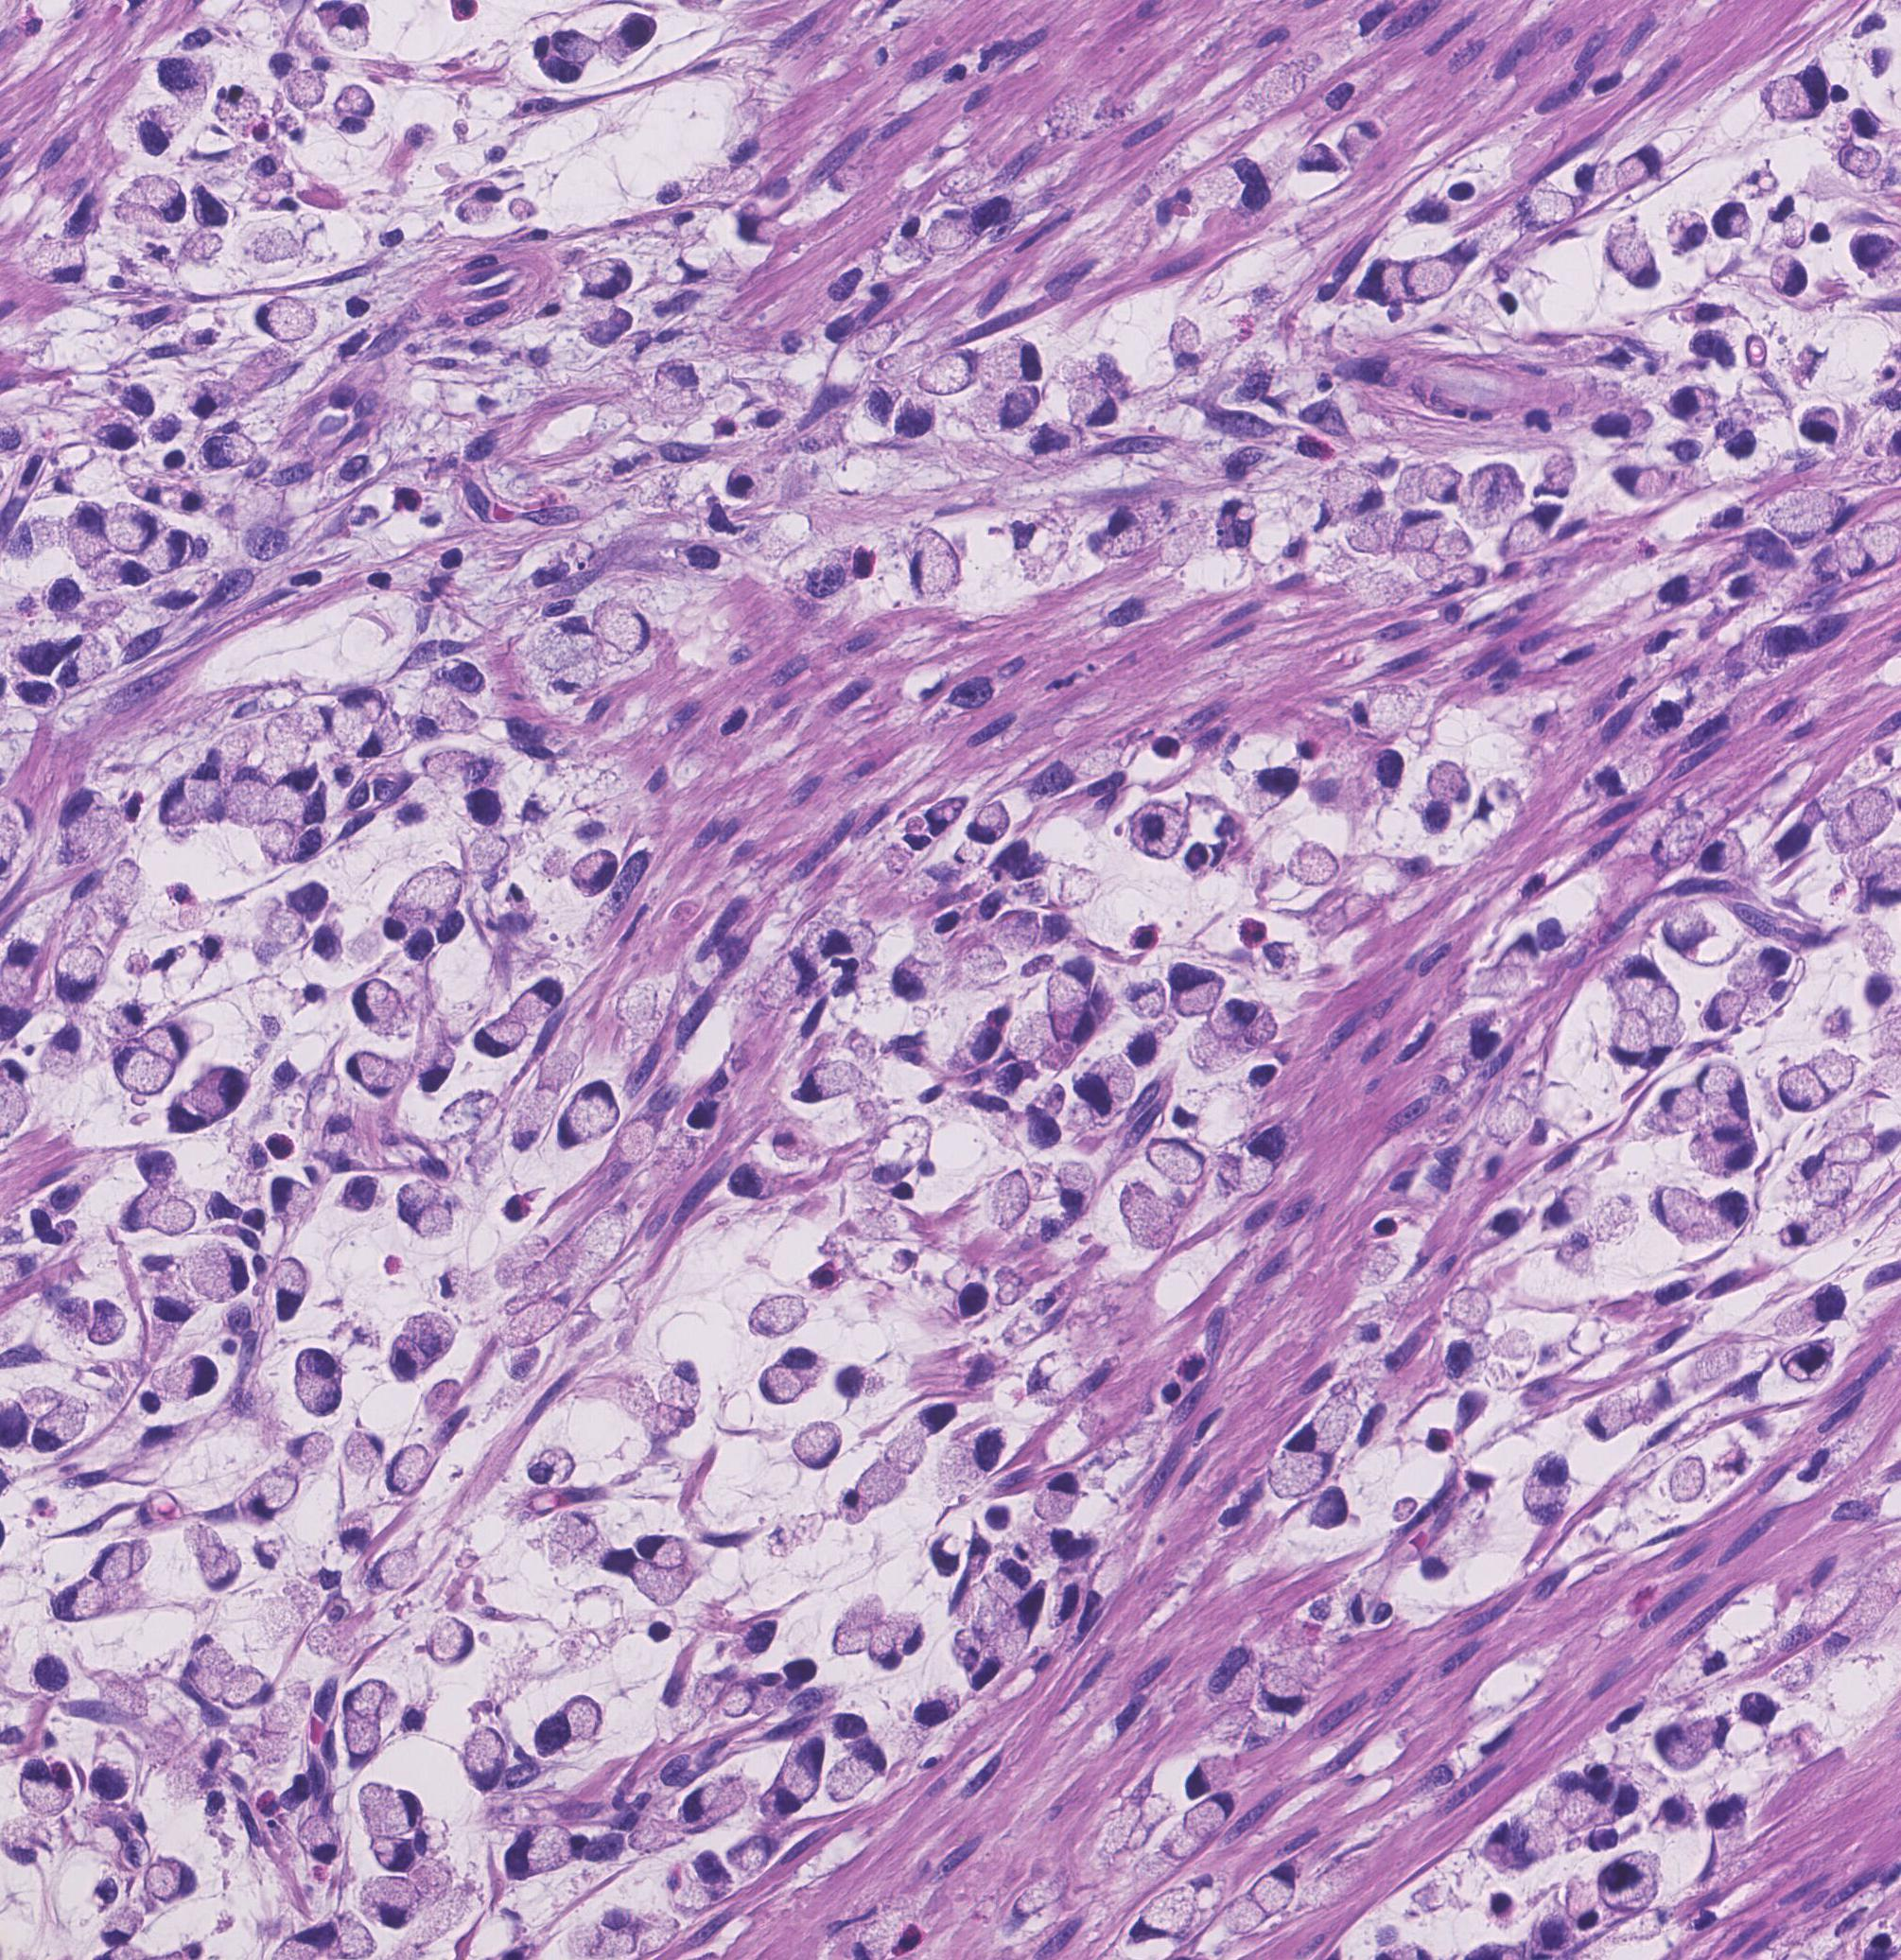ring_cell_cancer: (1267, 1393, 1350, 1491), (382, 861, 460, 940), (602, 1545, 700, 1605), (525, 1694, 606, 1762), (1764, 485, 1847, 546), (1043, 954, 1101, 1039), (868, 1109, 931, 1183), (1458, 457, 1523, 527), (1194, 161, 1273, 217), (931, 203, 1014, 256), (1659, 908, 1738, 962), (1486, 1813, 1558, 1872), (501, 1825, 576, 1881), (1007, 516, 1071, 581), (557, 1081, 620, 1148), (1126, 1890, 1203, 1944), (25, 635, 107, 686), (595, 600, 655, 670), (1596, 1852, 1661, 1914), (1073, 1053, 1136, 1116), (348, 978, 413, 1039), (177, 1631, 236, 1697), (1687, 1116, 1756, 1174), (322, 698, 385, 760), (54, 787, 116, 850), (908, 530, 965, 598), (1521, 1452, 1575, 1522), (1320, 464, 1385, 522), (191, 1242, 250, 1304), (51, 943, 109, 1006), (1495, 506, 1565, 557), (1553, 1762, 1609, 1825), (420, 740, 492, 789), (361, 1874, 425, 1928), (1759, 73, 1827, 124), (1127, 798, 1185, 857), (14, 1755, 74, 1813), (830, 1741, 886, 1802), (665, 1852, 728, 1906), (1245, 1125, 1292, 1197), (19, 240, 88, 289), (1777, 1283, 1845, 1332), (100, 500, 159, 557), (1168, 959, 1224, 1018), (1773, 795, 1820, 865), (390, 1183, 455, 1234), (112, 1045, 179, 1094), (1609, 231, 1663, 290), (534, 612, 593, 667), (1588, 399, 1656, 446), (1147, 1136, 1210, 1186), (359, 1783, 424, 1832), (32, 1397, 88, 1452), (67, 500, 112, 569), (151, 1356, 221, 1400), (1241, 767, 1301, 817), (1775, 1062, 1834, 1113), (1512, 186, 1574, 234), (979, 343, 1047, 387), (184, 1071, 249, 1116), (824, 1601, 879, 1656), (221, 773, 273, 830), (1610, 957, 1663, 1013), (464, 1727, 508, 1794), (254, 296, 315, 343), (46, 1575, 109, 1621), (247, 1470, 301, 1522), (914, 354, 979, 397), (256, 821, 320, 865), (473, 1008, 527, 1059), (221, 1662, 277, 1712), (1402, 256, 1460, 303), (284, 1372, 345, 1416), (793, 1419, 844, 1472), (753, 1769, 807, 1818), (350, 1053, 406, 1101), (1250, 1862, 1297, 1918), (744, 1297, 807, 1339), (1054, 1158, 1099, 1216), (184, 375, 242, 420), (1003, 1586, 1047, 1645), (37, 1026, 88, 1076), (298, 1813, 347, 1866), (1355, 259, 1407, 308), (1656, 808, 1698, 870), (1476, 782, 1530, 830), (506, 978, 564, 1022), (1066, 383, 1124, 427), (1610, 1010, 1654, 1067), (781, 1741, 824, 1799), (1778, 1341, 1836, 1384), (424, 1617, 476, 1664), (383, 1449, 436, 1496), (579, 254, 632, 301), (144, 1855, 198, 1901), (1182, 1792, 1236, 1837), (163, 1090, 219, 1134), (912, 1391, 961, 1440), (546, 1510, 595, 1559), (1588, 1393, 1638, 1440), (1428, 754, 1474, 807), (1189, 1753, 1243, 1797), (1663, 383, 1717, 427), (802, 1064, 863, 1102), (198, 430, 254, 472), (966, 1640, 1008, 1696), (1731, 943, 1787, 985), (275, 1255, 310, 1321), (754, 1349, 824, 1382), (145, 528, 194, 576), (343, 1671, 389, 1722), (1470, 1211, 1521, 1256), (567, 850, 620, 894), (1703, 1088, 1756, 1132), (1400, 506, 1448, 553), (1775, 1214, 1838, 1249), (268, 767, 308, 821), (198, 1547, 245, 1592), (135, 180, 184, 224), (1036, 1473, 1080, 1522), (142, 1020, 191, 1064), (660, 1360, 702, 1411), (119, 1188, 170, 1230), (634, 1533, 691, 1570), (1691, 1057, 1745, 1096), (1614, 465, 1673, 500), (1663, 212, 1708, 257), (1260, 1671, 1308, 1715), (287, 1346, 343, 1382), (987, 1554, 1029, 1603), (1794, 1157, 1836, 1206), (390, 1333, 431, 1384), (338, 1726, 389, 1766), (1535, 448, 1575, 499), (1168, 317, 1204, 371), (187, 122, 242, 159), (375, 1549, 420, 1592), (271, 1174, 315, 1220), (1448, 1337, 1493, 1381), (182, 765, 224, 812), (1106, 507, 1148, 555), (728, 1836, 775, 1878), (527, 1447, 576, 1487), (723, 462, 772, 502), (1038, 1531, 1094, 1566), (966, 802, 1010, 845), (1703, 830, 1747, 873), (133, 110, 175, 156), (343, 1432, 385, 1477), (1617, 147, 1663, 189), (894, 394, 936, 439), (1656, 1080, 1698, 1125), (1768, 199, 1810, 245), (285, 1430, 334, 1468), (1801, 401, 1840, 450), (1428, 567, 1488, 598), (418, 1043, 455, 1094), (1208, 999, 1259, 1036), (89, 1543, 133, 1586), (1686, 1708, 1728, 1752), (760, 1363, 805, 1403), (1423, 460, 1463, 506), (1542, 1188, 1589, 1227), (193, 182, 231, 229), (1658, 1722, 1696, 1769), (735, 210, 784, 247), (887, 1612, 928, 1656), (1701, 989, 1745, 1029), (100, 1906, 145, 1944), (1575, 159, 1623, 196), (954, 1274, 991, 1321), (91, 1297, 126, 1346), (1498, 935, 1540, 975), (1703, 1195, 1747, 1234), (371, 1836, 417, 1872), (924, 796, 965, 837), (1712, 203, 1752, 243), (1341, 121, 1383, 159), (765, 1123, 807, 1162), (719, 1678, 758, 1720), (334, 1512, 373, 1554), (1831, 537, 1869, 579), (665, 250, 709, 287), (1301, 142, 1346, 177), (684, 1783, 723, 1823), (1770, 256, 1808, 296), (217, 86, 259, 122), (865, 380, 896, 429), (1050, 1577, 1084, 1621), (963, 1529, 991, 1580), (870, 1629, 903, 1671), (243, 152, 284, 186), (1647, 1183, 1675, 1230), (336, 86, 375, 119), (838, 1487, 872, 1526), (455, 198, 499, 226), (905, 815, 931, 850)
